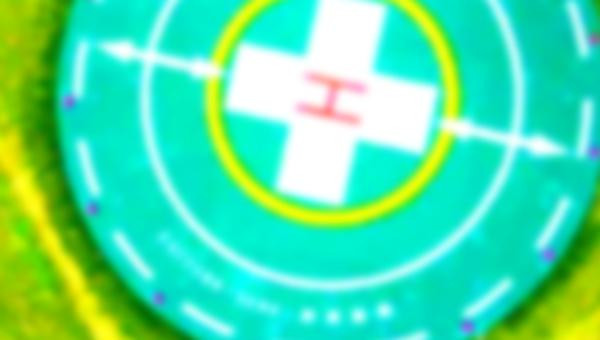Apron: (198, 4, 472, 230)
